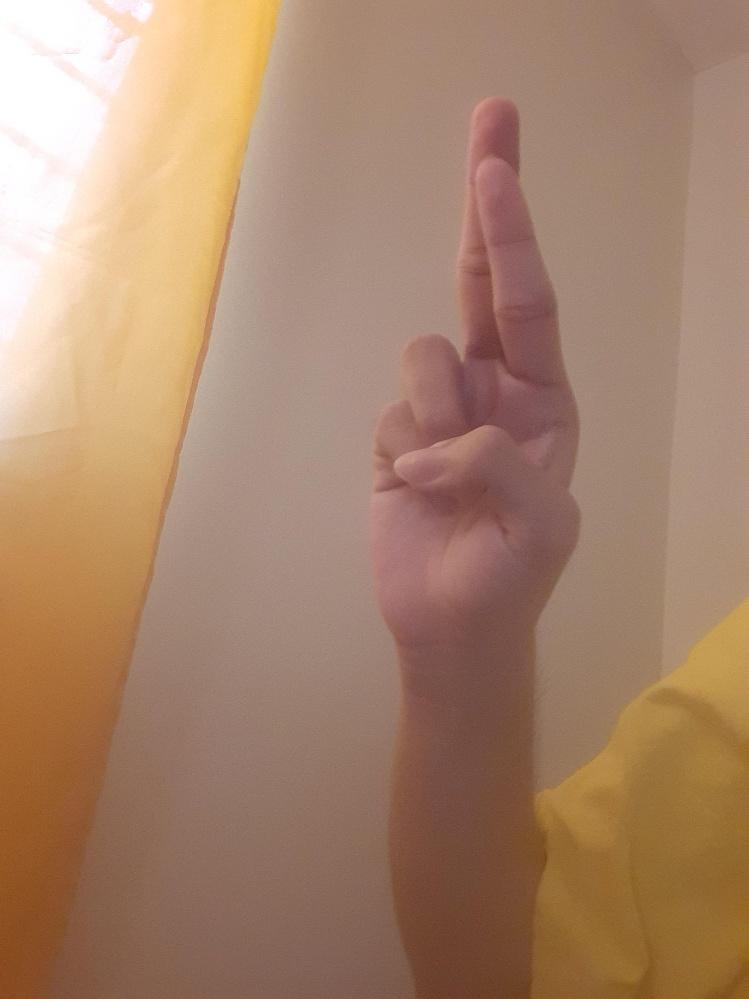r: (368, 98, 583, 636)
